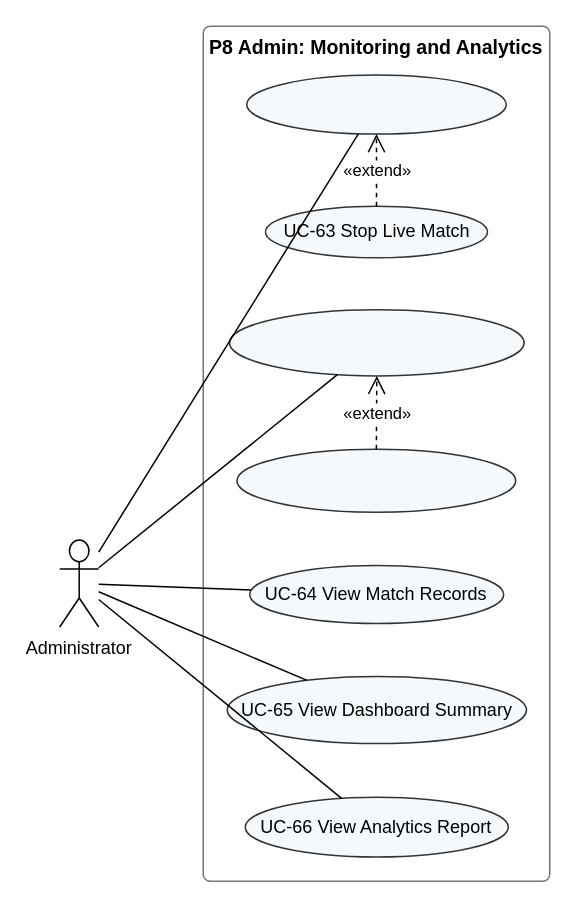
This 576x908 diagram has some shape labels left out. The shapes that lost their labels are listed below. From the top down, each one's box as (x1, y1, x2, y2) in pixels, then its label:
(245, 74, 506, 134): UC-62 Monitor Live Matches
(228, 308, 524, 376): UC-67 Review Coaching Session
(236, 448, 516, 512): UC-68 Export Labelled Dataset
